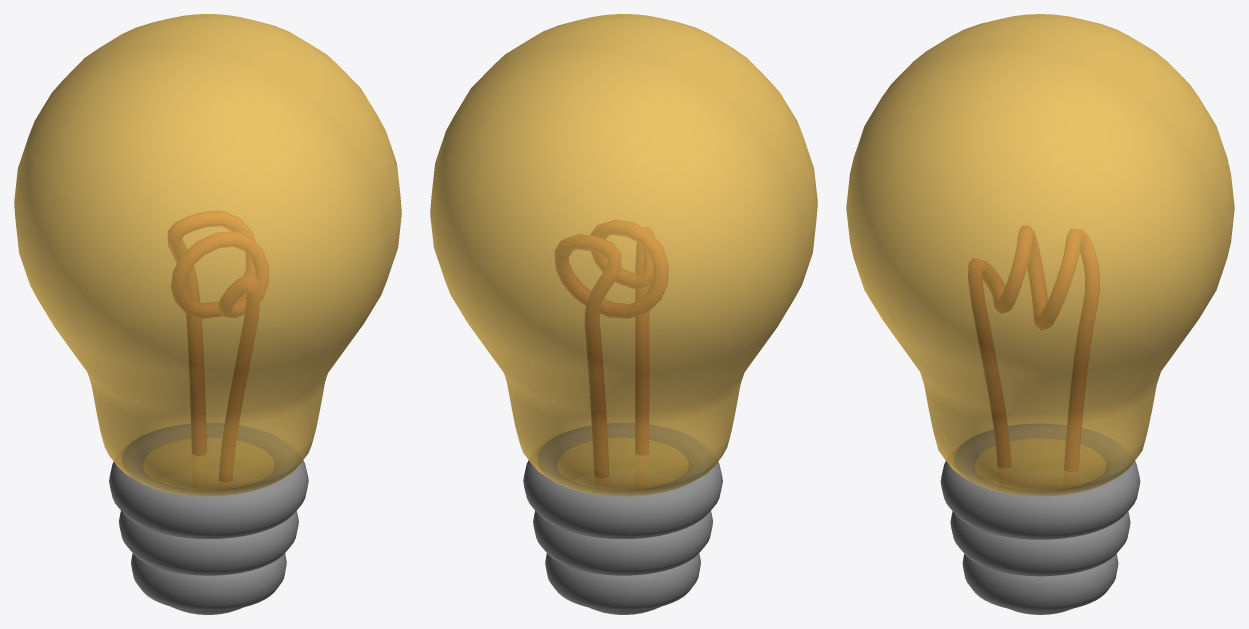
File: bulb.glb
3 renders of one model, left to right at view 1: azimuth 30°, elevation 25°; view 2: azimuth 150°, elevation 25°; view 3: azimuth 270°, elevation 25°, orthographic.
Parts seen in each view (by area): view 1: Torus_1, Torus, BezierCurve; view 2: Torus_1, Torus, BezierCurve; view 3: Torus_1, Torus, BezierCurve.
Part boxes in pixels (x1,y1,x2,y2): Torus_1: (14, 14, 401, 496); Torus: (109, 423, 308, 614); BezierCurve: (168, 211, 268, 481); Torus_1: (430, 14, 817, 496); Torus: (523, 423, 722, 614); BezierCurve: (555, 220, 668, 478); Torus_1: (846, 14, 1234, 496); Torus: (940, 424, 1140, 614); BezierCurve: (968, 225, 1099, 471).
Size of the model in its own units: 2.8 by 4.56 by 2.8.
